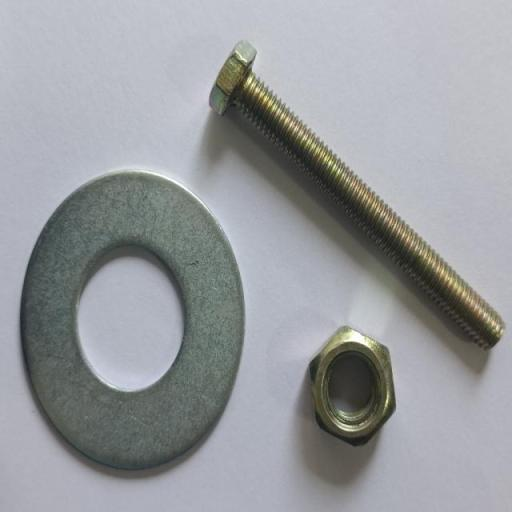Bolt: (209, 40, 505, 350)
Nut: (308, 325, 396, 447)
Washer: (19, 169, 246, 470)
